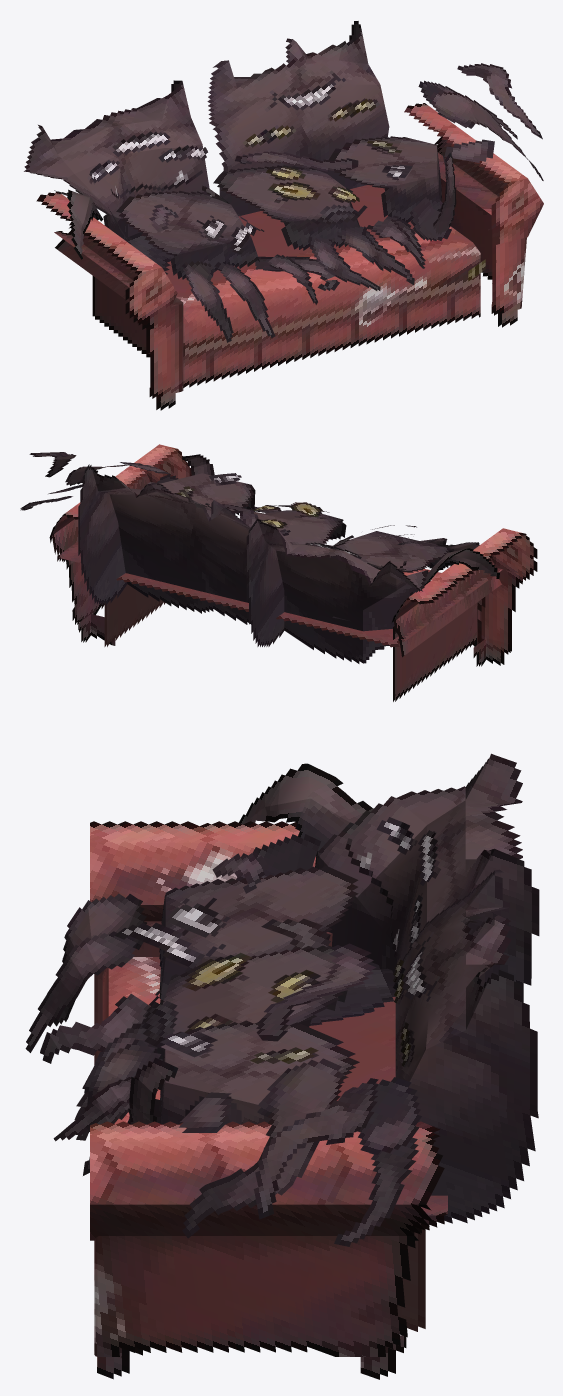
3 views of the same model, one above another, from view 1: azimuth 30°, elevation 25°; view 2: azimuth 150°, elevation 25°; view 3: azimuth 270°, elevation 25° (orthographic). The views are drawn at different scales.
Parts seen in each view (by area): view 1: Sofa_arm_1, tanP, Sofa_B_1, Sofa_B_2, cu_3, cu_1, cu_2, Sofa_mouthA, Sofa_eyeB.002, cu_mouthB, Sofa_tenBase, cu_eyeB.001 (+6 smaller); view 2: Sofa_arm_1, Sofa_B_1, Sofa_B_2, tanP, cu_3, cu_1, cu_2, cu_eyeA, cu_eyeB.001; view 3: Sofa_arm_1, tanP, Sofa_B_1, Sofa_B_2, cu_3, cu_1, cu_2, Sofa_tenBase, cu_mouthC, cu_eyeA, cu_eyeB.001, cu_eyeC (+6 smaller).
Part boxes in pixels (x1=…): Sofa_arm_1: x1=36, y1=103, x2=543, y2=410; tanP: x1=54, y1=63, x2=543, y2=342; Sofa_B_1: x1=207, y1=21, x2=389, y2=216; Sofa_B_2: x1=24, y1=80, x2=210, y2=241; cu_3: x1=116, y1=190, x2=259, y2=280; cu_1: x1=328, y1=136, x2=441, y2=222; cu_2: x1=213, y1=166, x2=359, y2=250; Sofa_mouthA: x1=265, y1=70, x2=345, y2=111; Sofa_eyeB.002: x1=113, y1=131, x2=170, y2=156; cu_mouthB: x1=305, y1=204, x2=367, y2=224; Sofa_tenBase: x1=125, y1=232, x2=230, y2=274; cu_eyeB.001: x1=267, y1=182, x2=320, y2=200; Sofa_arm_1: x1=49, y1=444, x2=537, y2=701; Sofa_B_1: x1=78, y1=464, x2=251, y2=624; Sofa_B_2: x1=244, y1=518, x2=430, y2=663; tanP: x1=20, y1=452, x2=499, y2=595; cu_3: x1=335, y1=531, x2=452, y2=572; cu_1: x1=142, y1=473, x2=255, y2=514; cu_2: x1=240, y1=510, x2=346, y2=544; cu_eyeA: x1=176, y1=473, x2=241, y2=498; cu_eyeB.001: x1=289, y1=502, x2=323, y2=517; Sofa_arm_1: x1=90, y1=821, x2=447, y2=1379; tanP: x1=25, y1=763, x2=421, y2=1246; Sofa_B_1: x1=395, y1=869, x2=538, y2=1223; Sofa_B_2: x1=315, y1=753, x2=539, y2=1002; cu_3: x1=159, y1=865, x2=358, y2=1004; cu_1: x1=160, y1=1020, x2=359, y2=1124; cu_2: x1=157, y1=945, x2=343, y2=1060; Sofa_tenBase: x1=309, y1=962, x2=395, y2=1025; cu_mouthC: x1=114, y1=922, x2=225, y2=971; cu_eyeA: x1=160, y1=1031, x2=318, y2=1063; cu_eyeB.001: x1=181, y1=952, x2=252, y2=991; cu_eyeC: x1=168, y1=897, x2=229, y2=937.
Bounding box in the file's own units: 1.83 × 0.83 × 1.04.
1 material, 1 textured.
